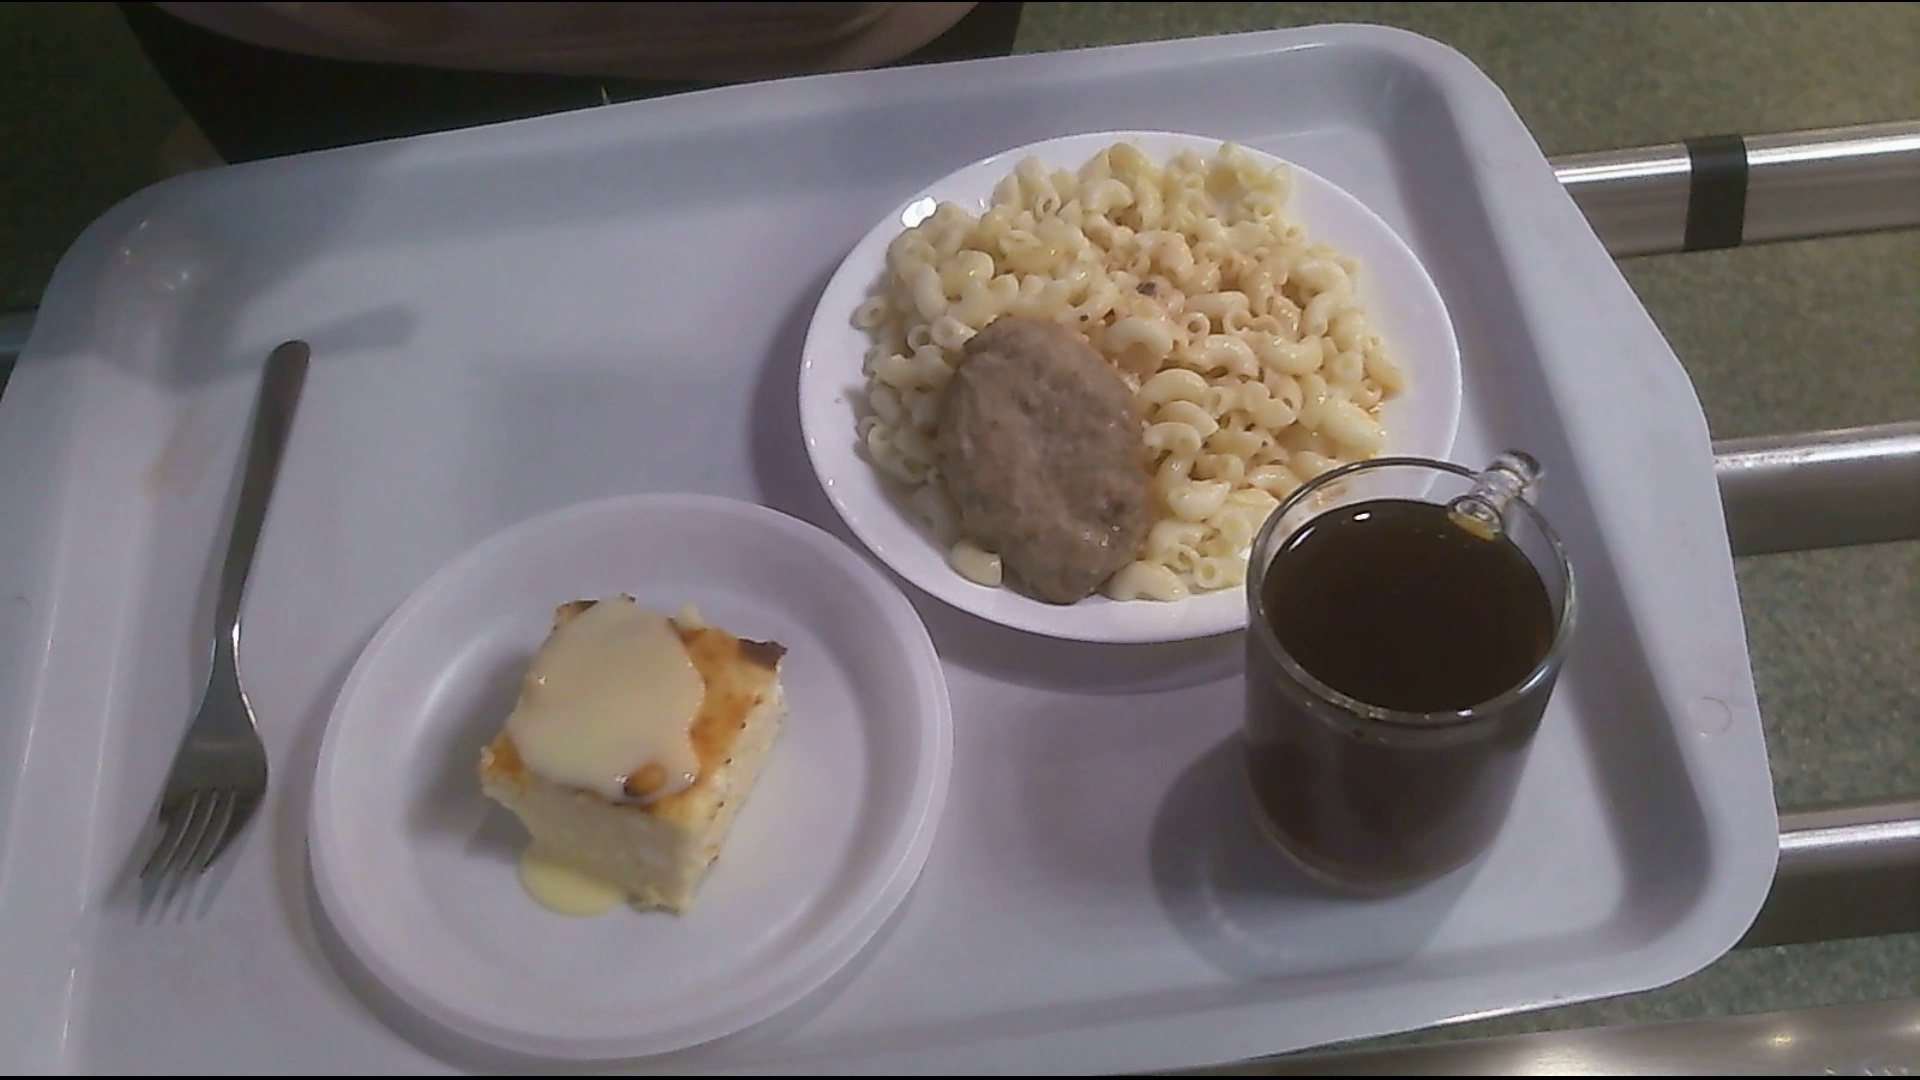cutlery: (146, 330, 309, 884)
drink: (1234, 455, 1571, 899)
plate: (310, 495, 949, 1062), (789, 131, 1453, 642)
